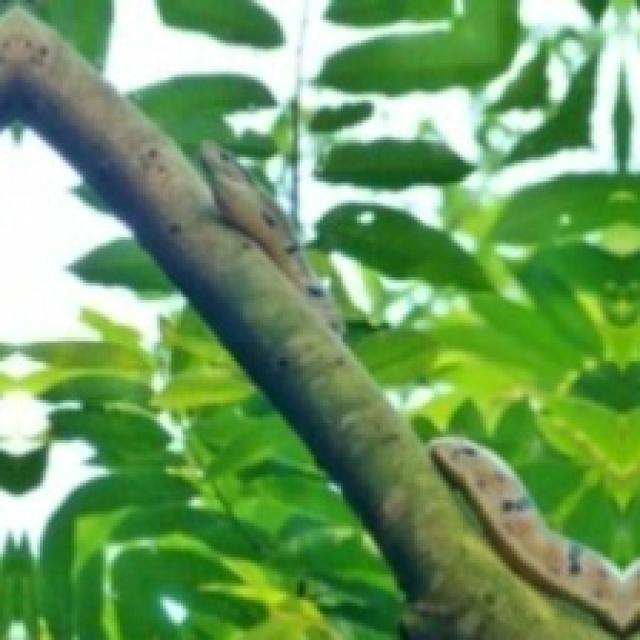dog-toothed cat snake: (429, 437, 637, 631), (200, 143, 337, 329)
